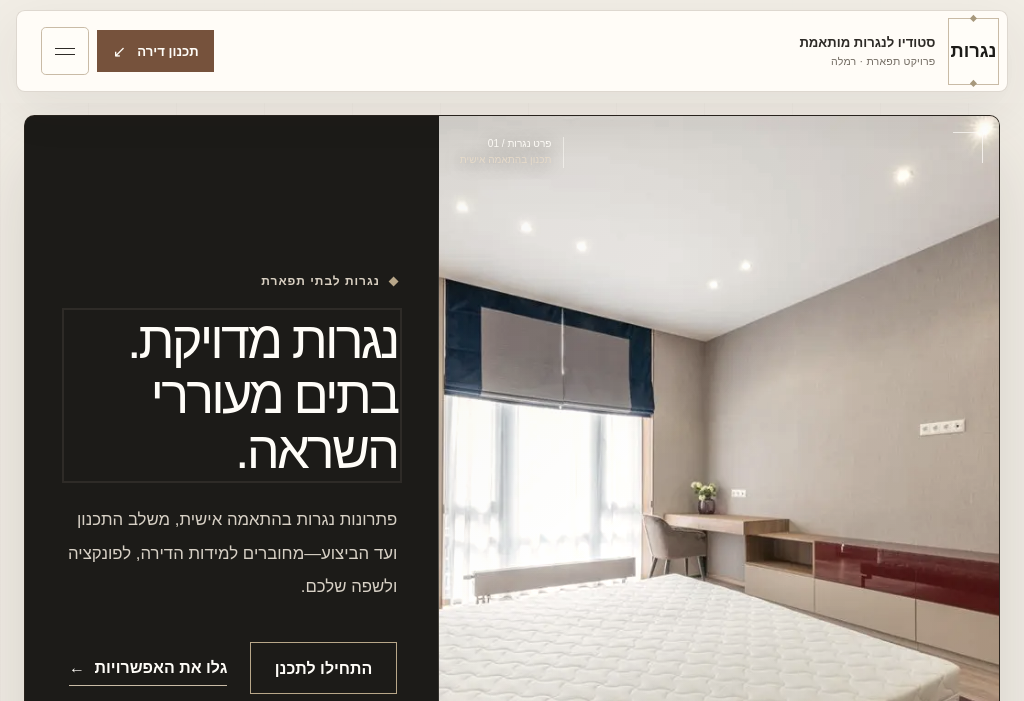
Test: Tiferet carpentry website › navigates to apartment selection without reloading the SPA
Step 1. Click the link "התחילו לתכנן" → coordinates (324, 668), box [250,642,397,694]
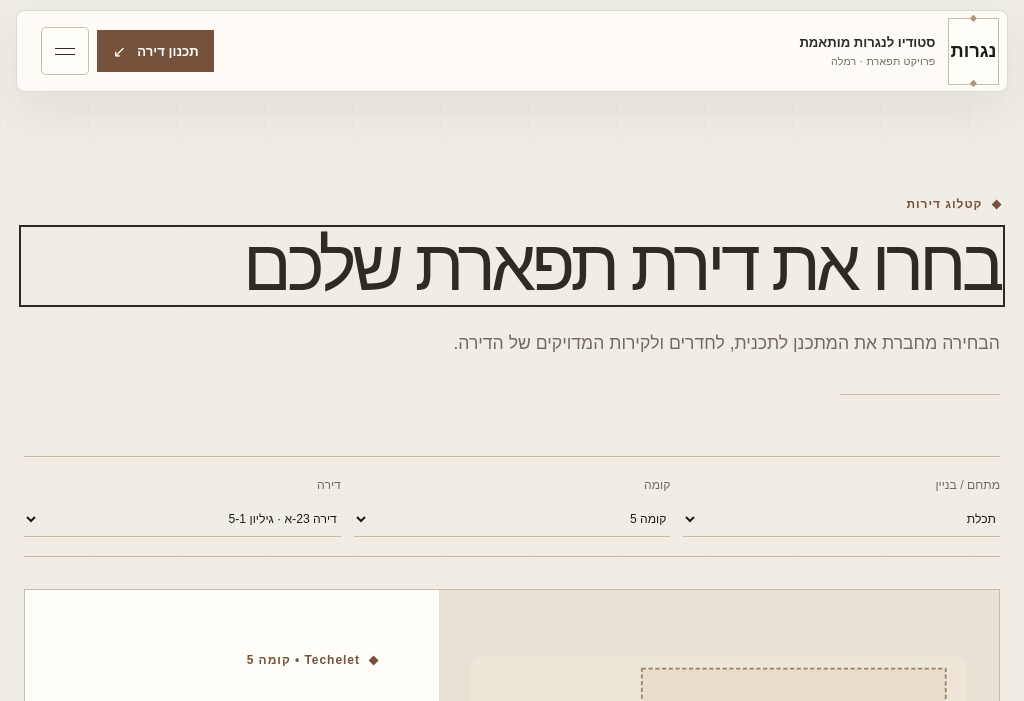
Expected: the heading "בחרו את דירת תפארת שלכם" is shown, [243,225,1000,305]
